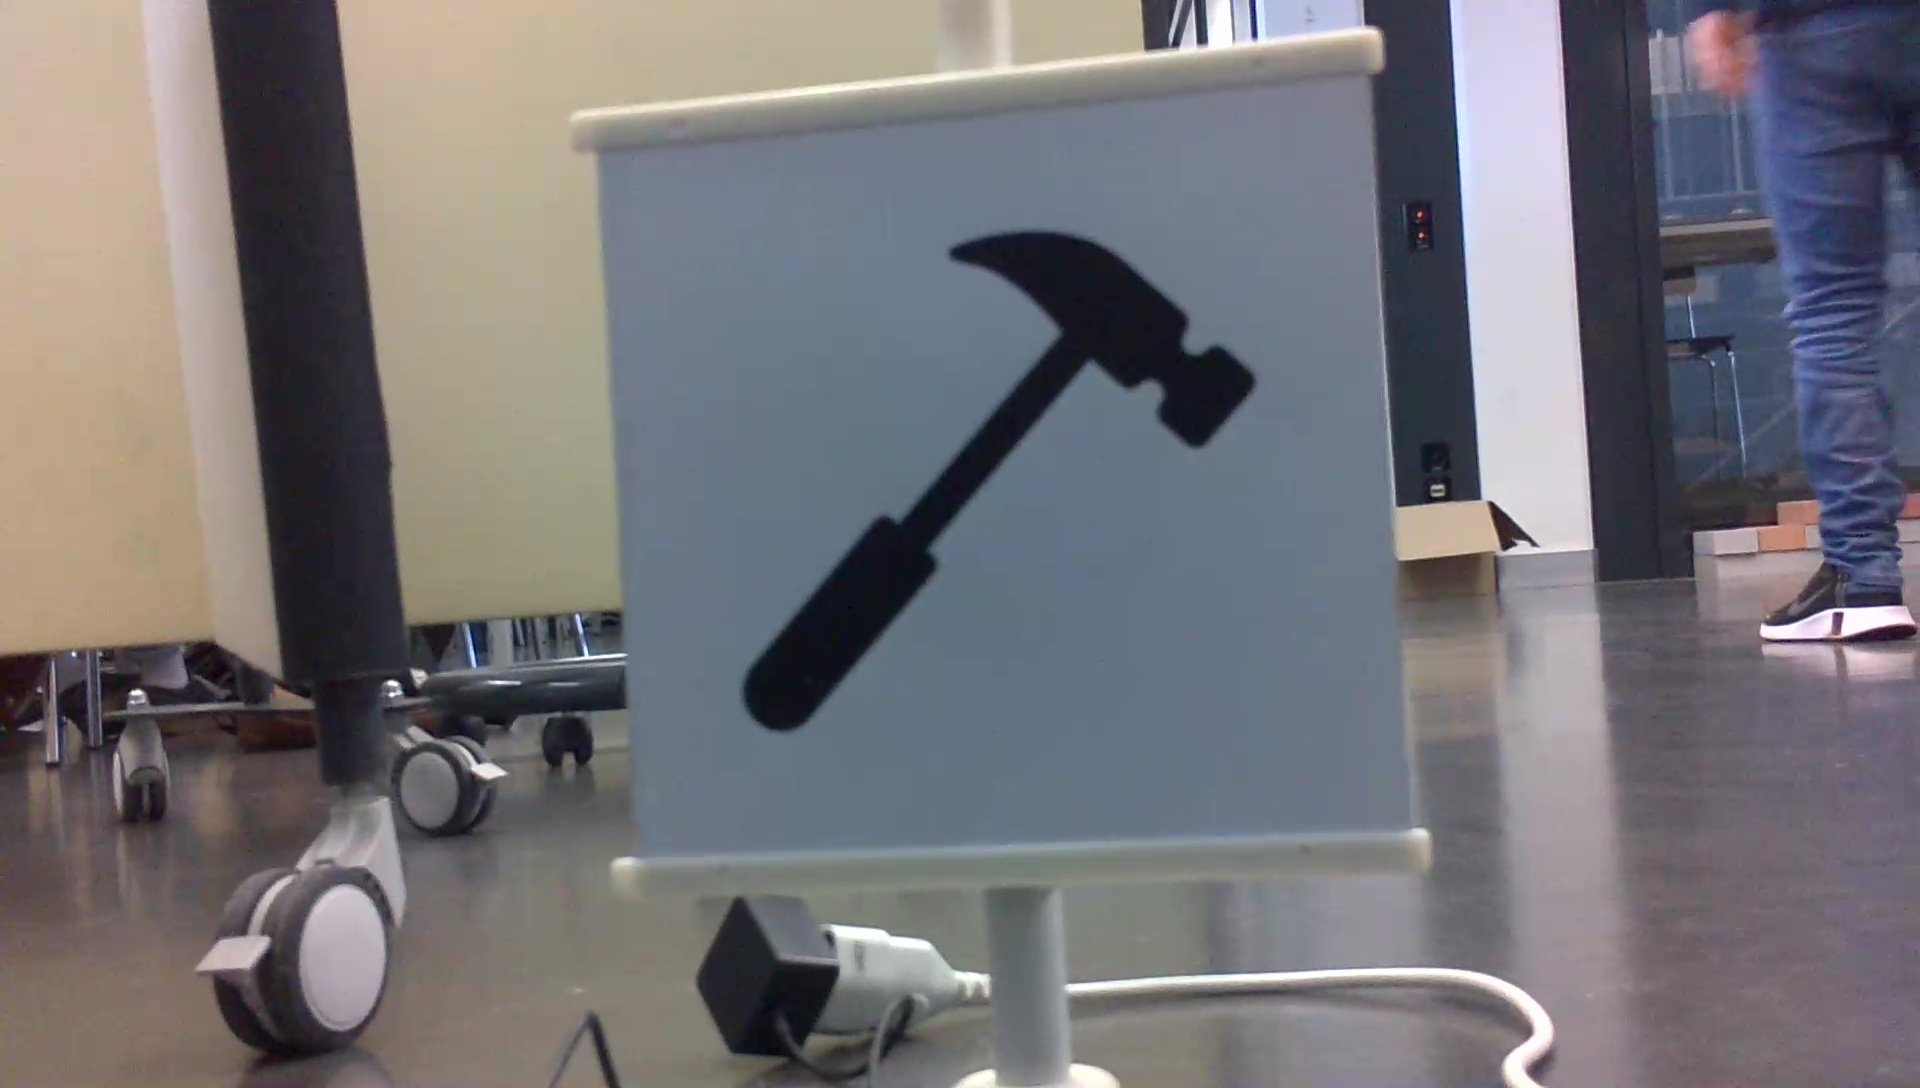hammer: (729, 223, 1267, 739)
